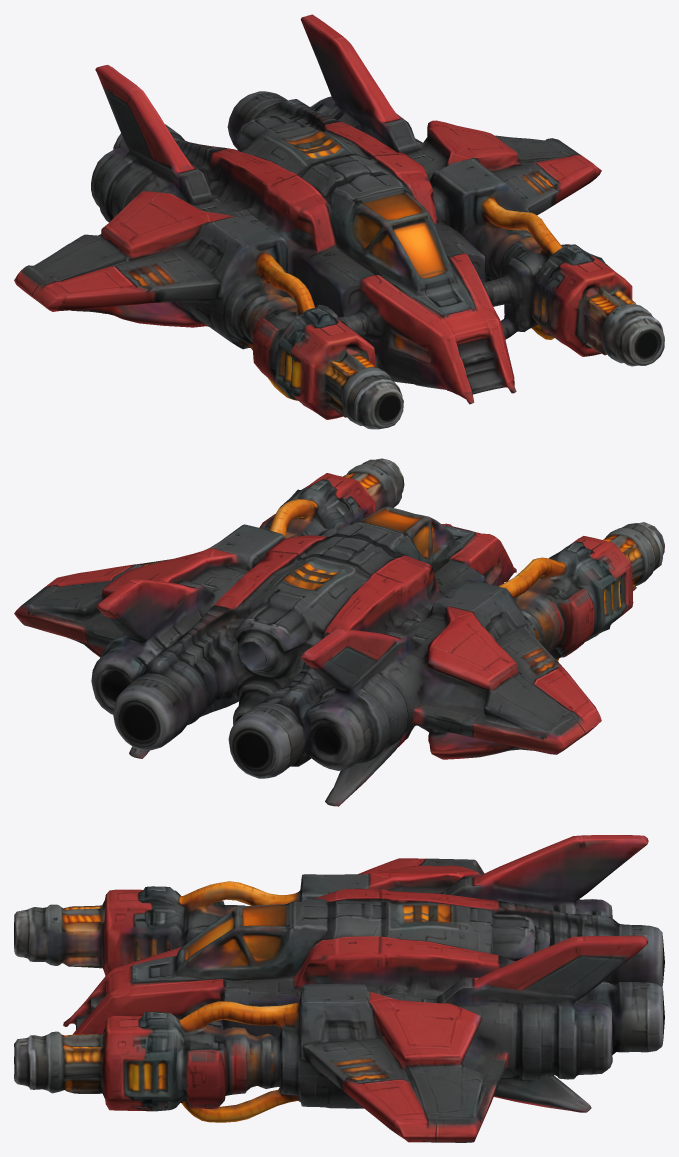
The model's file is inferno.glb.
3 views of the same model, one above another, from view 1: azimuth 30°, elevation 25°; view 2: azimuth 150°, elevation 25°; view 3: azimuth 270°, elevation 25° (orthographic).
Parts seen in each view (by area): view 1: input; view 2: input; view 3: input.
Part boxes in pixels (x1,y1,x2,y2): input: (14,14,664,429); input: (14,458,664,806); input: (14,835,664,1142).
Bounding box in the file's own units: 11.9 × 3.68 × 12.
Materials: 1 (1 with a texture image).
